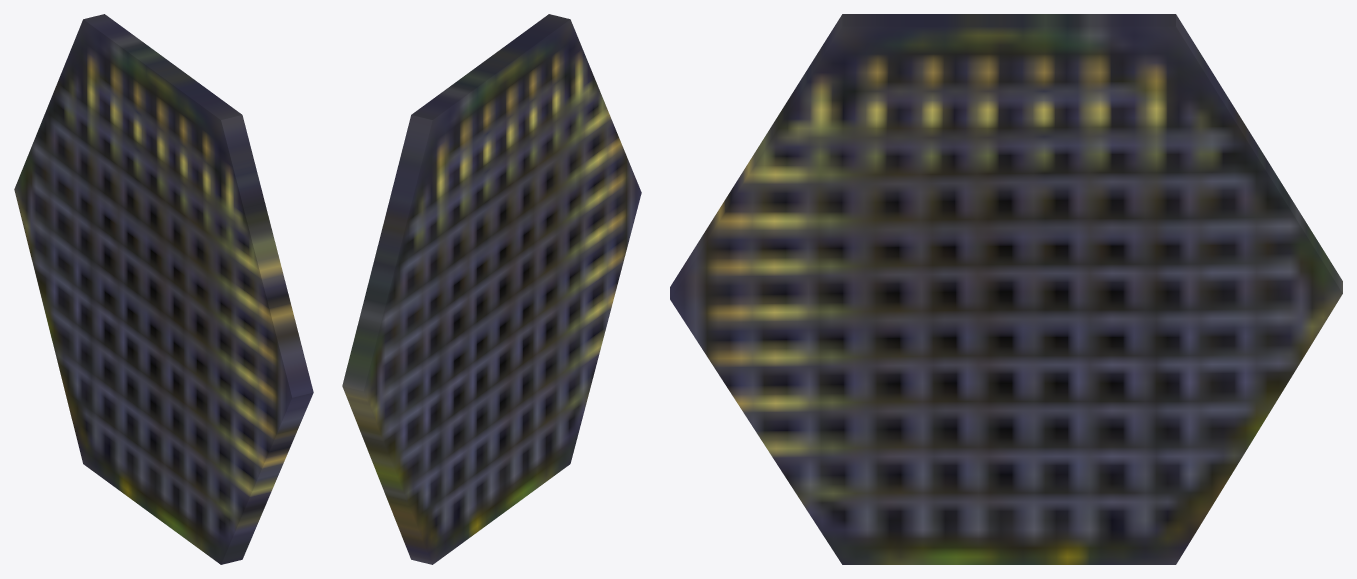
3 renders of one model, left to right at view 1: azimuth 30°, elevation 25°; view 2: azimuth 150°, elevation 25°; view 3: azimuth 270°, elevation 25°, orthographic. The views are drawn at different scales.
Parts seen in each view (by area): view 1: Cylinder01; view 2: Cylinder01; view 3: Cylinder01.
Part boxes in pixels (left/top/right/bottom): Cylinder01: left=14, top=14, right=313, bottom=564; Cylinder01: left=342, top=14, right=641, bottom=564; Cylinder01: left=670, top=14, right=1342, bottom=564.
Size of the model in its own units: 33.07 by 654 by 740.
Materials: 1 (1 with a texture image).
